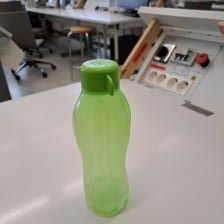bottle: (71, 54, 134, 215)
